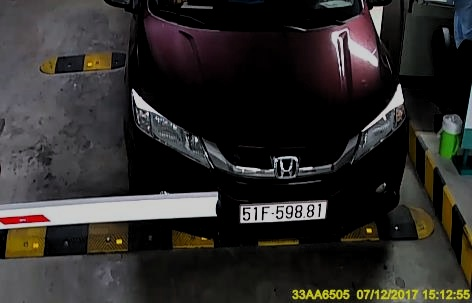plate: (228, 196, 327, 226)
